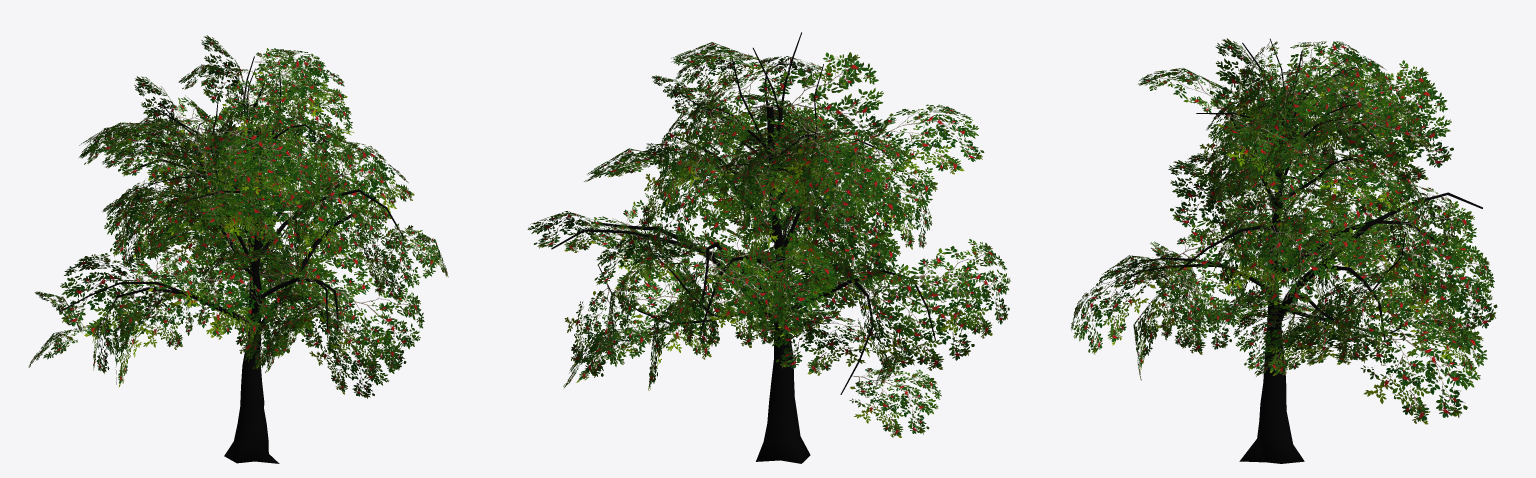
The model's file is HornedHollyTree_2.fbx.
3 views of the same model, side by side, from view 1: azimuth 30°, elevation 25°; view 2: azimuth 150°, elevation 25°; view 3: azimuth 270°, elevation 25° (orthographic). The views are drawn at different scales.
Visible parts, largest first — view 1: HornedHollyTree_2; view 2: HornedHollyTree_2; view 3: HornedHollyTree_2.
Part boxes in pixels (<box>): HornedHollyTree_2: <box>28,35,448,463</box>; HornedHollyTree_2: <box>527,32,1010,463</box>; HornedHollyTree_2: <box>1071,38,1497,463</box>.
Bounding box in the file's own units: 495 × 465 × 458.
